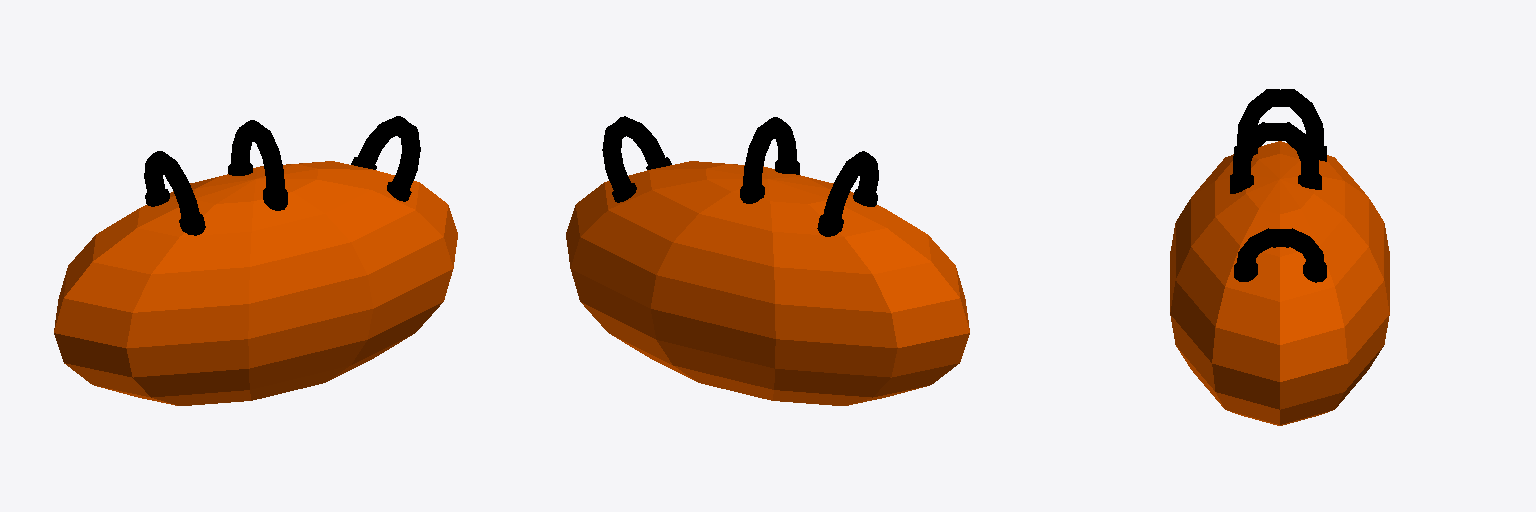
File: BIOliver.obj
3 renders of one model, left to right at view 1: azimuth 30°, elevation 25°; view 2: azimuth 150°, elevation 25°; view 3: azimuth 270°, elevation 25°, orthographic.
Parts seen in each view (by area): view 1: pSphere1 group1, group1 pCylinder9, group1 pCylinder11, group1 pCylinder10; view 2: pSphere1 group1, group1 pCylinder11, group1 pCylinder9, group1 pCylinder10; view 3: pSphere1 group1, group1 pCylinder9, group1 pCylinder11, group1 pCylinder10.
Boxes of the visible parts, x1=… form: pSphere1 group1: x1=54, y1=161, x2=457, y2=405; group1 pCylinder9: x1=228, y1=120, x2=287, y2=210; group1 pCylinder11: x1=351, y1=116, x2=420, y2=201; group1 pCylinder10: x1=144, y1=151, x2=205, y2=235; pSphere1 group1: x1=566, y1=161, x2=969, y2=405; group1 pCylinder11: x1=602, y1=116, x2=671, y2=202; group1 pCylinder9: x1=740, y1=117, x2=799, y2=203; group1 pCylinder10: x1=817, y1=151, x2=878, y2=236; pSphere1 group1: x1=1170, y1=141, x2=1389, y2=425; group1 pCylinder9: x1=1230, y1=122, x2=1321, y2=193; group1 pCylinder11: x1=1234, y1=228, x2=1326, y2=282; group1 pCylinder10: x1=1234, y1=89, x2=1326, y2=161.
Bounding box in the file's own units: 43.1 × 26.95 × 20.27.